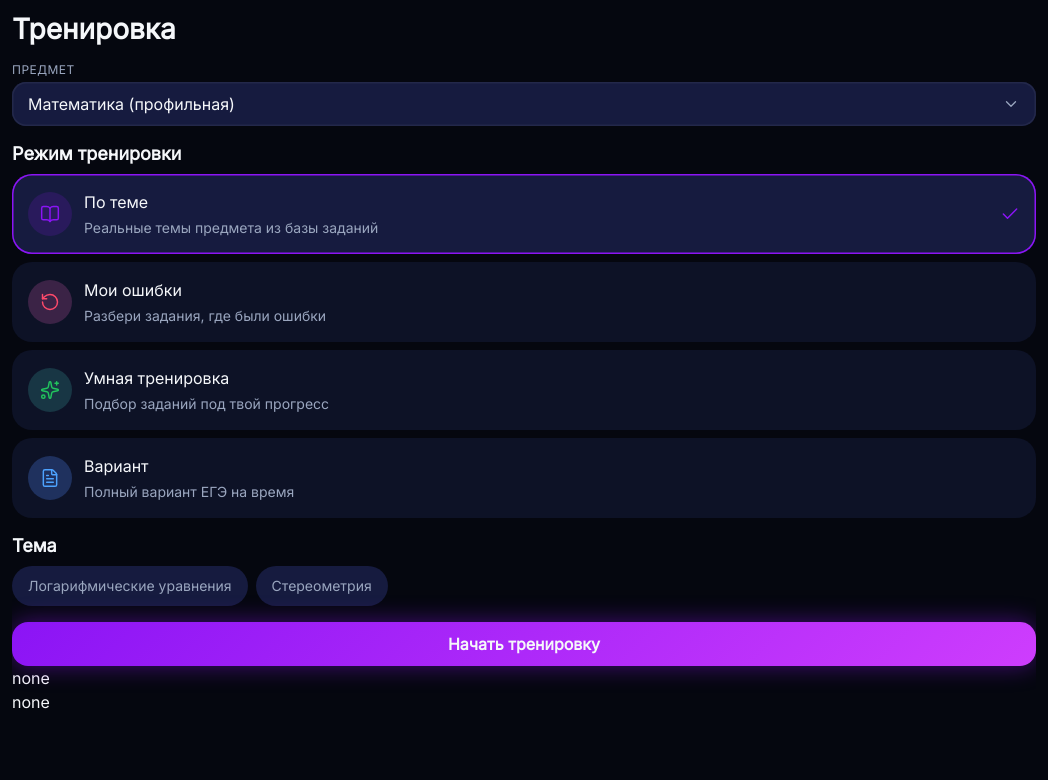
Test: Training — "По теме" (real topics, independent 🎲/🔄, numbers, amount) › requires a topic before starting
The image size is (1048, 780).
Expected: the button "Логарифмические уравнения" is shown, [12,566,248,606]
Click the button "Начать тренировку".
click(524, 644)  # box [12,622,1036,666]
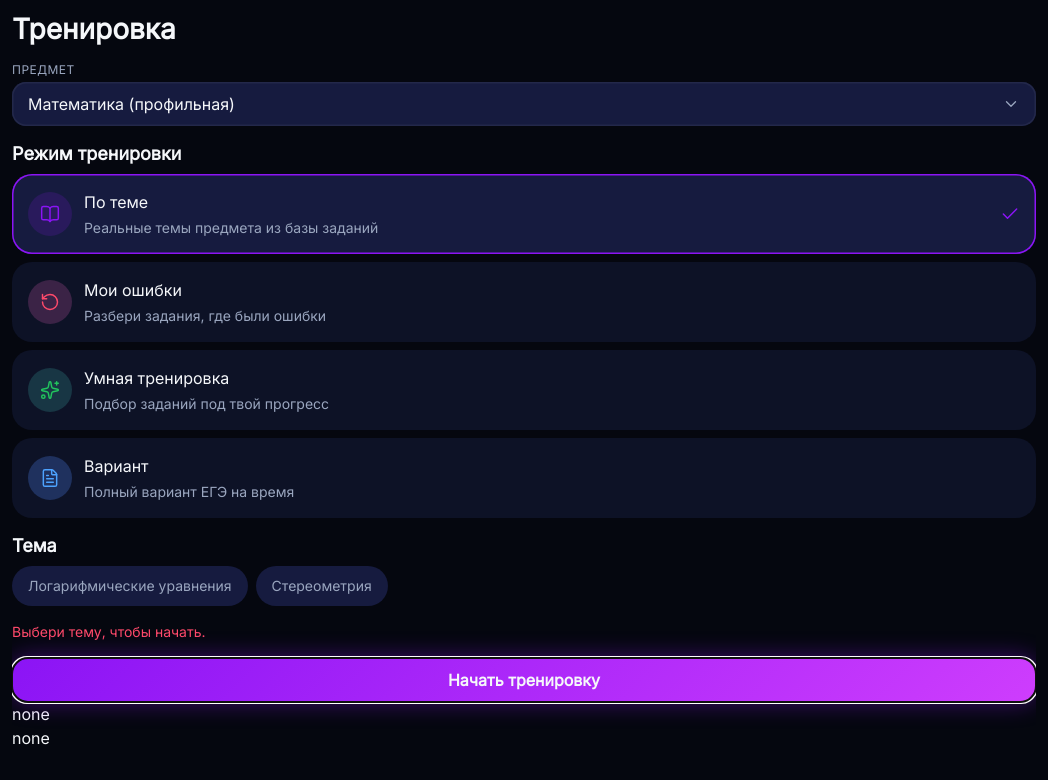
Now the text "Выбери тему, чтобы начать." is shown, box [12,623,206,640]
